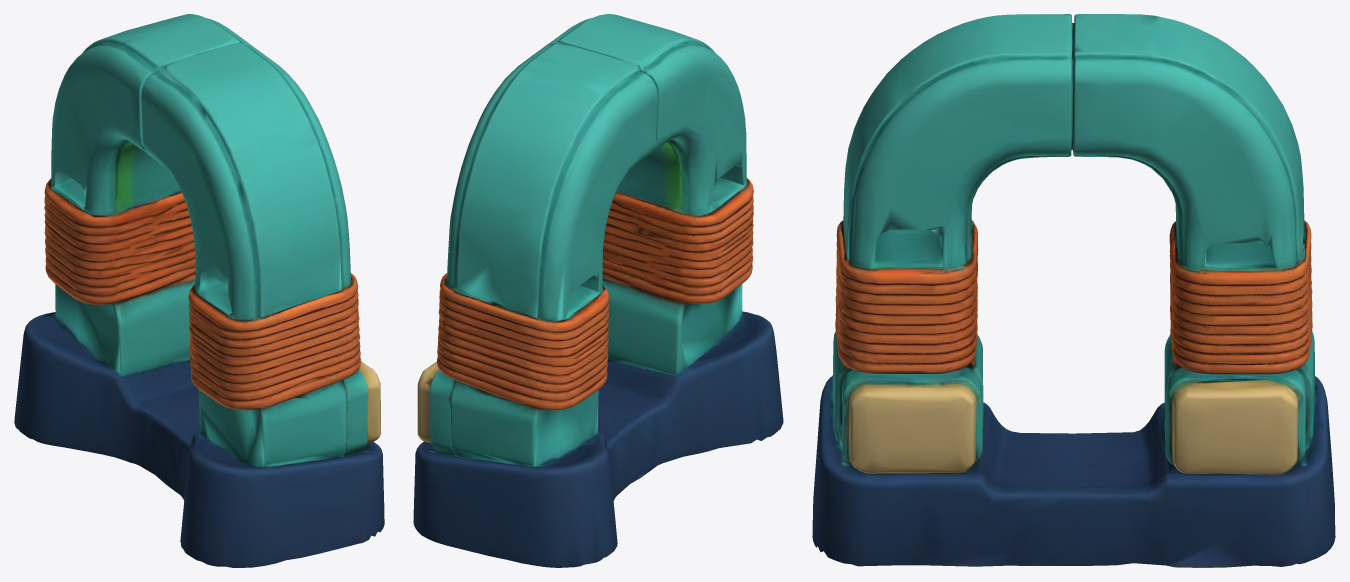
The model's file is magnet.glb.
3 views of the same model, side by side, from view 1: azimuth 30°, elevation 25°; view 2: azimuth 150°, elevation 25°; view 3: azimuth 270°, elevation 25° (orthographic). The views are drawn at different scales.
Parts seen in each view (by area): view 1: tripo_node_a50d2853-5626-436c-8e20-72e8f484f18a; view 2: tripo_node_a50d2853-5626-436c-8e20-72e8f484f18a; view 3: tripo_node_a50d2853-5626-436c-8e20-72e8f484f18a.
Part boxes in pixels (box(x1,y1,x2,y2)): tripo_node_a50d2853-5626-436c-8e20-72e8f484f18a: box(14, 14, 384, 567); tripo_node_a50d2853-5626-436c-8e20-72e8f484f18a: box(413, 14, 783, 567); tripo_node_a50d2853-5626-436c-8e20-72e8f484f18a: box(812, 14, 1335, 567).
Bounding box in the file's own units: 0.331 × 0.7226 × 0.7037.
1 material, 1 textured.
